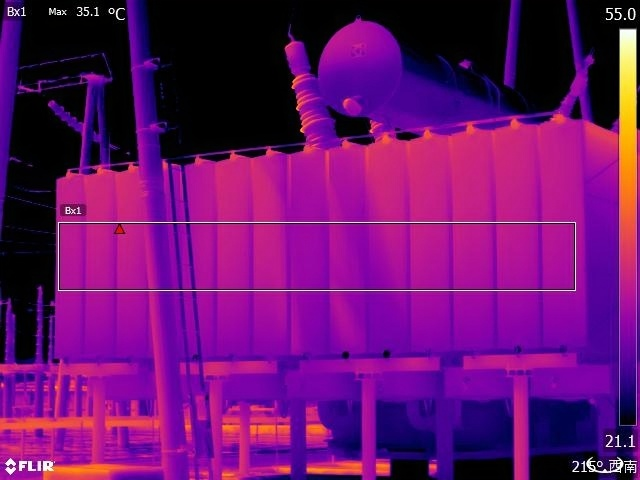insulator: (46, 94, 127, 153)
oil conservator: (312, 13, 536, 131)
transformer: (47, 112, 616, 369)
tube: (274, 27, 340, 152), (549, 50, 600, 121)
